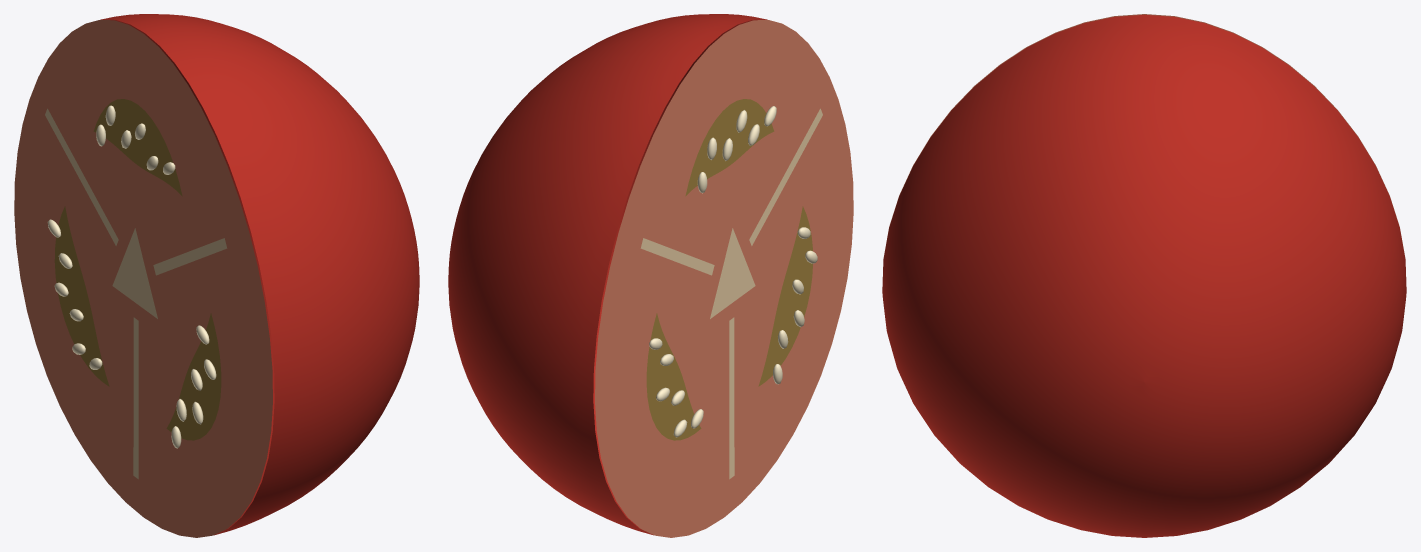
Rendered from early_girl_half.glb.
3 renders of one model, left to right at view 1: azimuth 30°, elevation 25°; view 2: azimuth 150°, elevation 25°; view 3: azimuth 270°, elevation 25°, orthographic.
Visible parts, largest first — view 1: Early Girl coral cut flesh, Prepared Early Girl half, Three curved Early Girl seed galleries, Early Girl triangular cream core, Eighteen Early Girl cream seeds; view 2: Early Girl coral cut flesh, Prepared Early Girl half, Three curved Early Girl seed galleries, Early Girl triangular cream core, Eighteen Early Girl cream seeds; view 3: Prepared Early Girl half, Early Girl coral cut flesh.
Boxes of the visible parts, x1,y1,x2,y2 form: Early Girl coral cut flesh: (14,20,272,537); Prepared Early Girl half: (100,14,419,535); Three curved Early Girl seed galleries: (54,99,221,440); Early Girl triangular cream core: (45,108,227,479); Eighteen Early Girl cream seeds: (47,105,216,448); Early Girl coral cut flesh: (595,20,853,537); Prepared Early Girl half: (448,14,767,535); Three curved Early Girl seed galleries: (646,99,812,440); Early Girl triangular cream core: (640,108,822,479); Eighteen Early Girl cream seeds: (649,106,817,437); Prepared Early Girl half: (882,14,1406,537); Early Girl coral cut flesh: (883,14,1405,257).
Size of the model in its own units: 0.6637 by 1.16 by 1.12.
